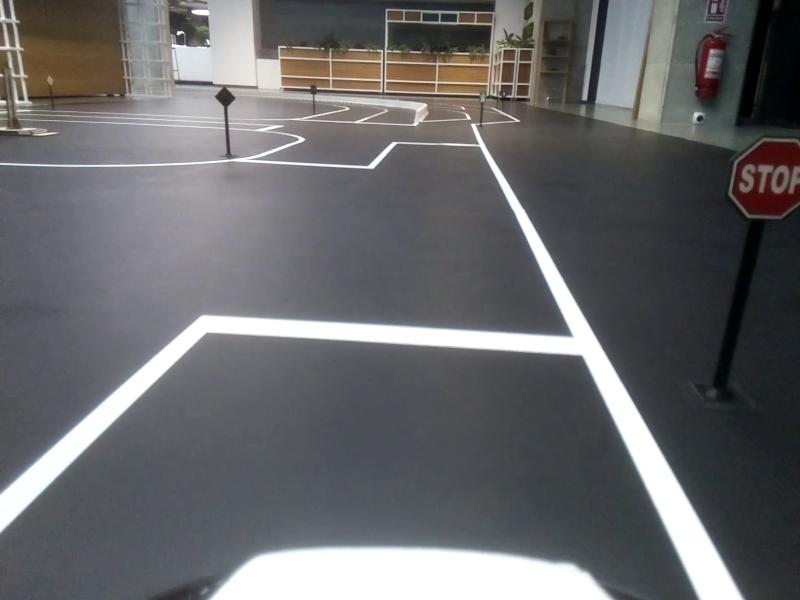stop: (723, 136, 800, 221)
